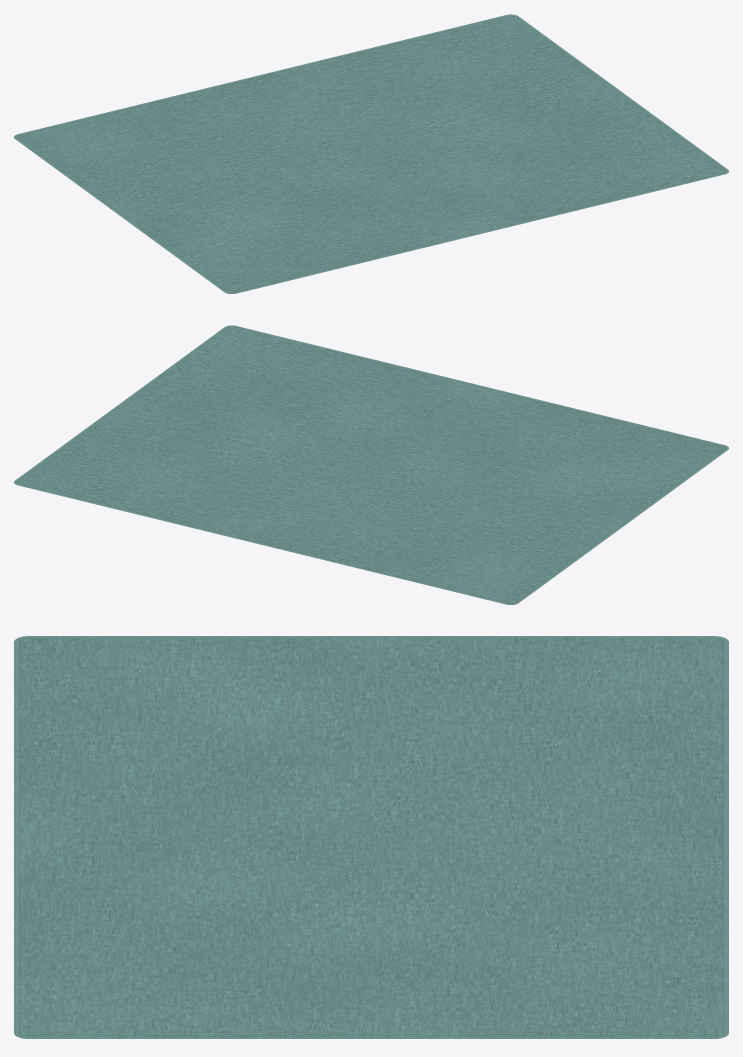
File: green_M_r90.glb
3 renders of one model, top to bottom at view 1: azimuth 30°, elevation 25°; view 2: azimuth 150°, elevation 25°; view 3: azimuth 270°, elevation 25°, orthographic. The views are drawn at different scales.
Parts seen in each view (by area): view 1: reliv_green_M_r90; view 2: reliv_green_M_r90; view 3: reliv_green_M_r90.
Part boxes in pixels (x1,y1,x2,y2): reliv_green_M_r90: (14,14,728,293); reliv_green_M_r90: (14,325,728,604); reliv_green_M_r90: (14,636,728,1038).
Bounding box in the file's own units: 2 × 0.009 × 1.5.
2 materials, 1 textured.
